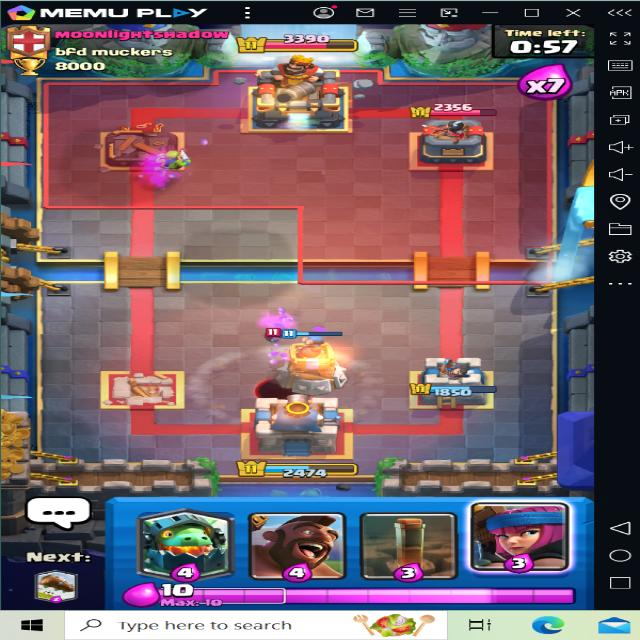Bat: (260, 325, 297, 346)
Void: (250, 376, 342, 415)
